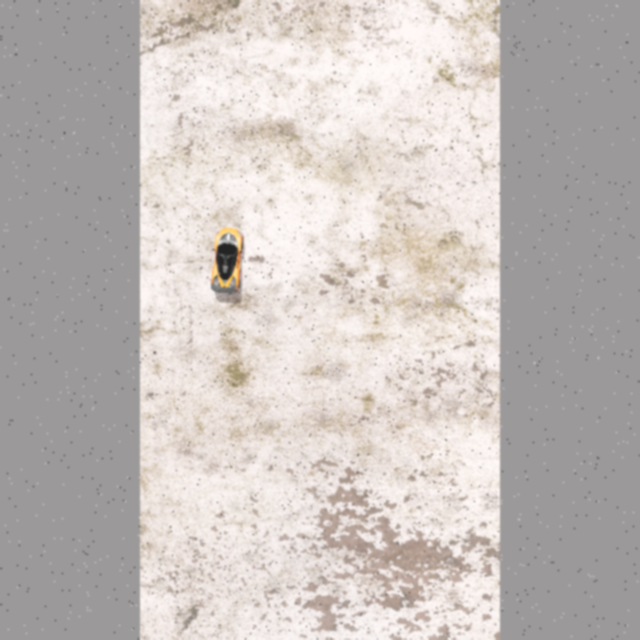car: (207, 224, 245, 295)
